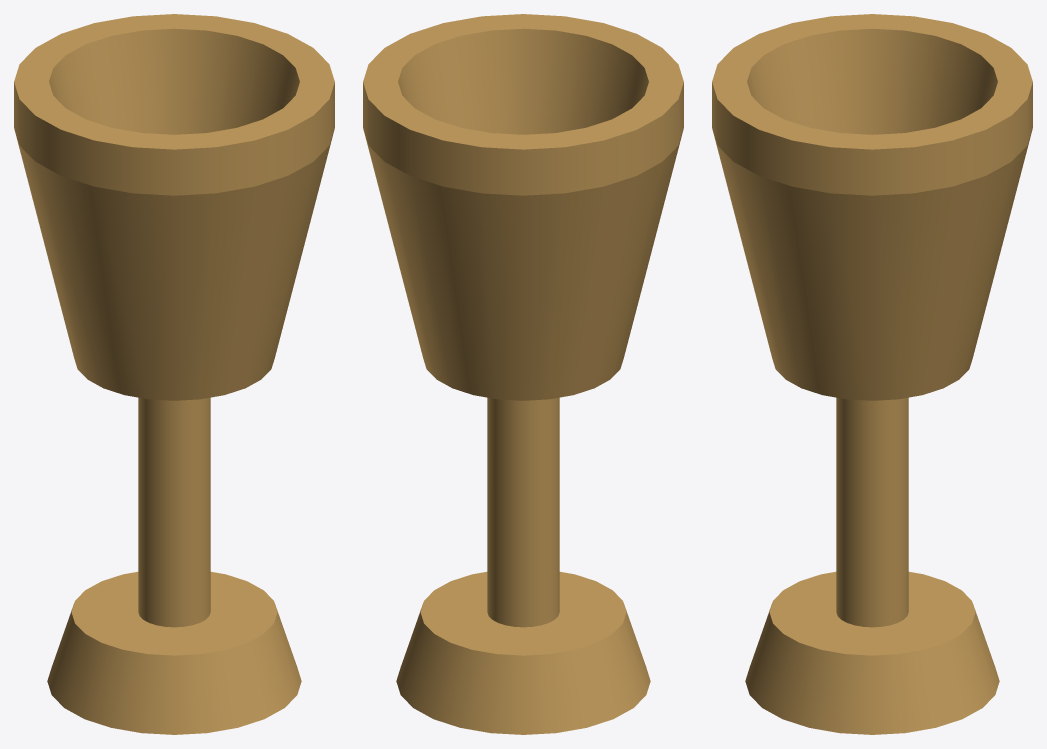
Rendered from detailChalice.fbx.
3 renders of one model, left to right at view 1: azimuth 30°, elevation 25°; view 2: azimuth 150°, elevation 25°; view 3: azimuth 270°, elevation 25°, orthographic.
Parts seen in each view (by area): view 1: detailChalice; view 2: detailChalice; view 3: detailChalice.
Part boxes in pixels (x1,y1,x2,y2): detailChalice: [14, 14, 334, 734]; detailChalice: [363, 14, 683, 734]; detailChalice: [712, 14, 1032, 734].
Bounding box in the file's own units: 0.7064 × 1.46 × 0.7064.
